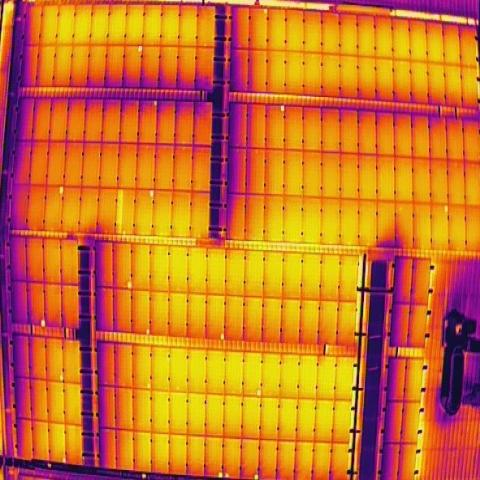fault: (125, 279, 134, 292), (136, 42, 143, 54), (144, 327, 152, 337), (58, 184, 64, 197), (255, 388, 262, 399), (152, 98, 159, 108), (58, 373, 65, 383), (149, 188, 155, 199), (40, 318, 46, 329), (262, 6, 269, 15), (279, 103, 285, 113), (61, 456, 67, 466), (443, 204, 449, 214), (217, 470, 223, 479), (219, 332, 224, 342), (121, 228, 127, 236), (146, 382, 152, 390), (253, 474, 259, 480), (224, 472, 230, 478)
